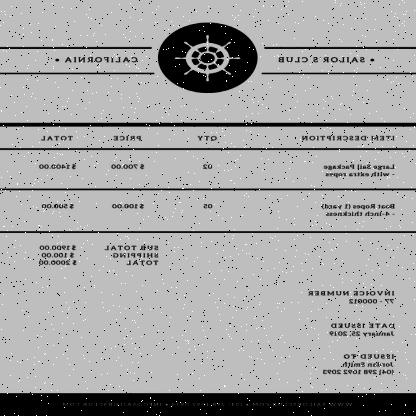Paragraph: (32, 242, 164, 270), (318, 351, 400, 377), (60, 401, 356, 408), (304, 288, 401, 306), (324, 321, 398, 339), (275, 53, 369, 67), (62, 53, 144, 68)
Table: (0, 123, 416, 232)
